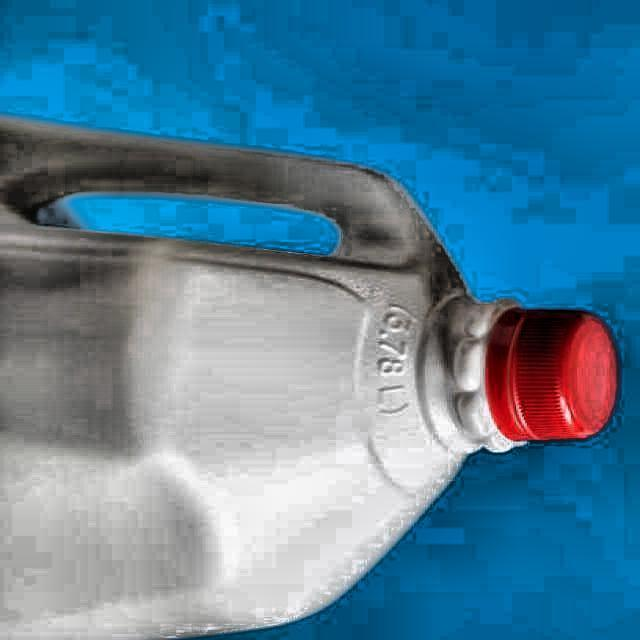plastic: (0, 118, 619, 639)
